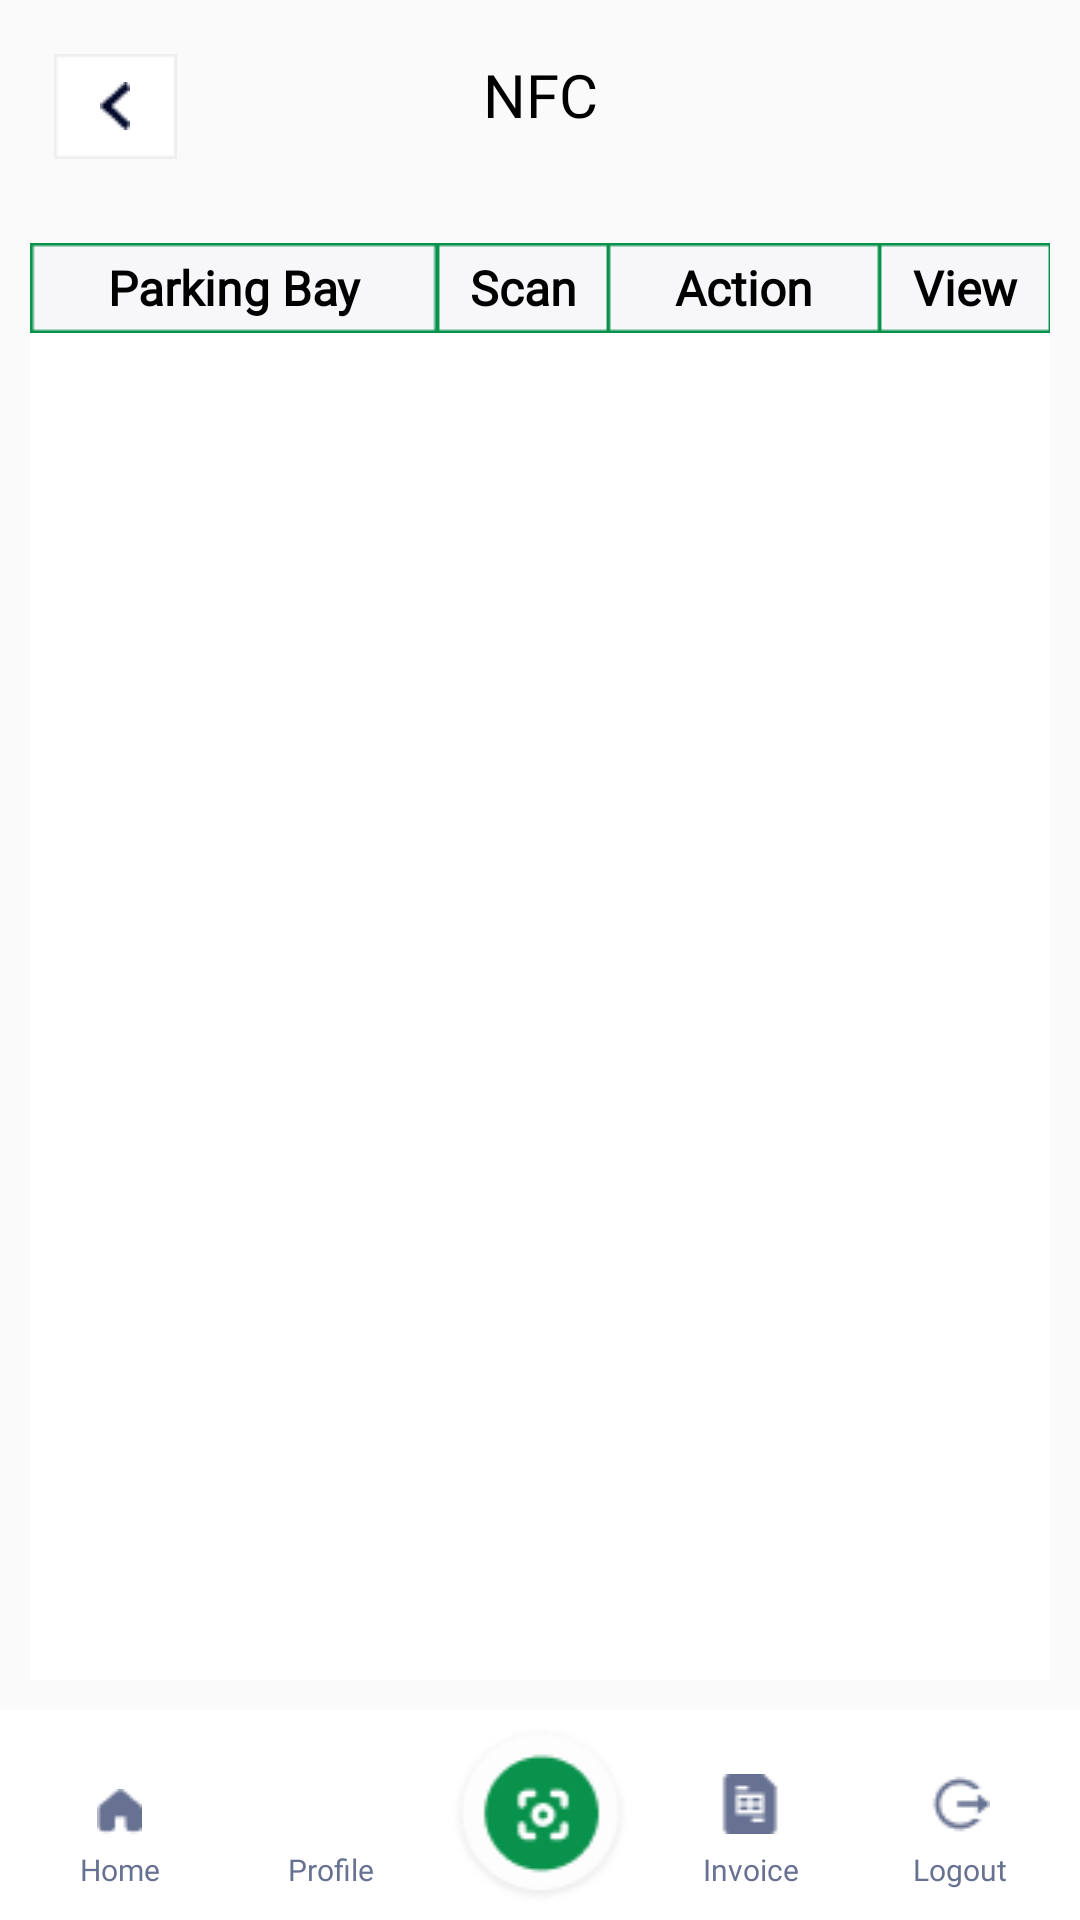

Point at icon controls on the screen. Image size 1080*1920, points as (x=x, y=y).
back arrow: (x=115, y=106)
scan: (x=541, y=1813)
